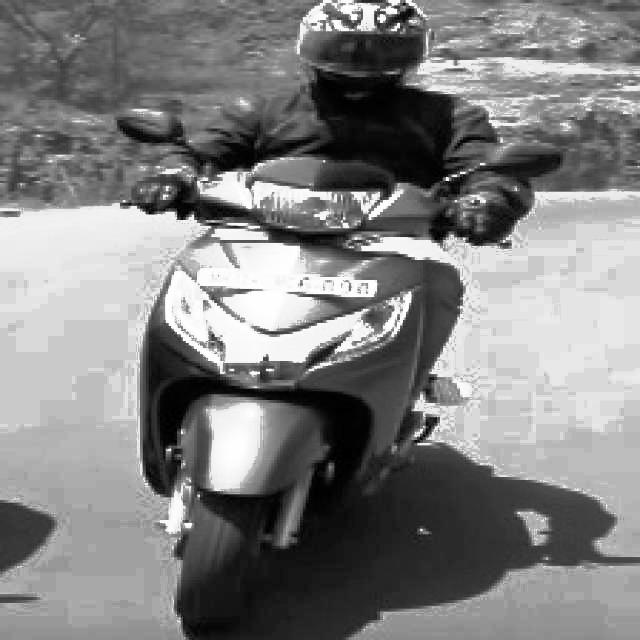Bike: (71, 107, 551, 633)
